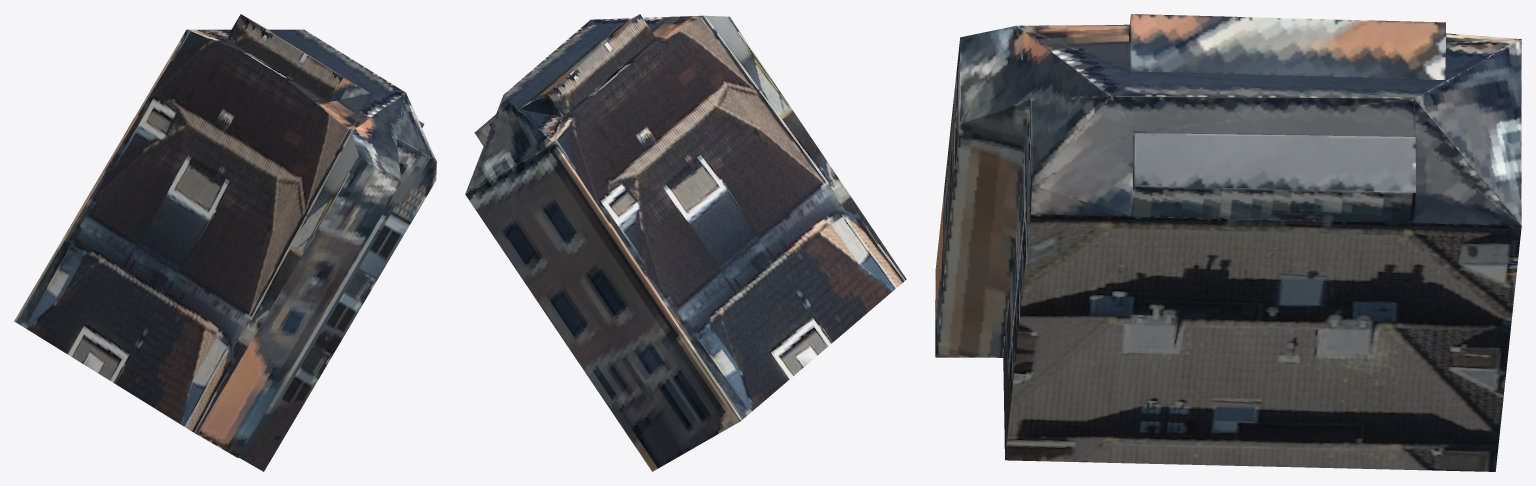
3 views of the same model, side by side, from view 1: azimuth 30°, elevation 25°; view 2: azimuth 150°, elevation 25°; view 3: azimuth 270°, elevation 25° (orthographic). The views are drawn at different scales.
Parts seen in each view (by area): view 1: BAG_0599100000688747 (×5); view 2: BAG_0599100000688747 (×5); view 3: BAG_0599100000688747 (×5).
Part boxes in pixels (x1=…): BAG_0599100000688747 (×5): x1=14, y1=14, x2=436, y2=471; BAG_0599100000688747 (×5): x1=465, y1=14, x2=906, y2=471; BAG_0599100000688747 (×5): x1=935, y1=14, x2=1521, y2=471.
Size of the model in its own units: 13.04 by 14.54 by 13.89.
Materials: 1 (1 with a texture image).
